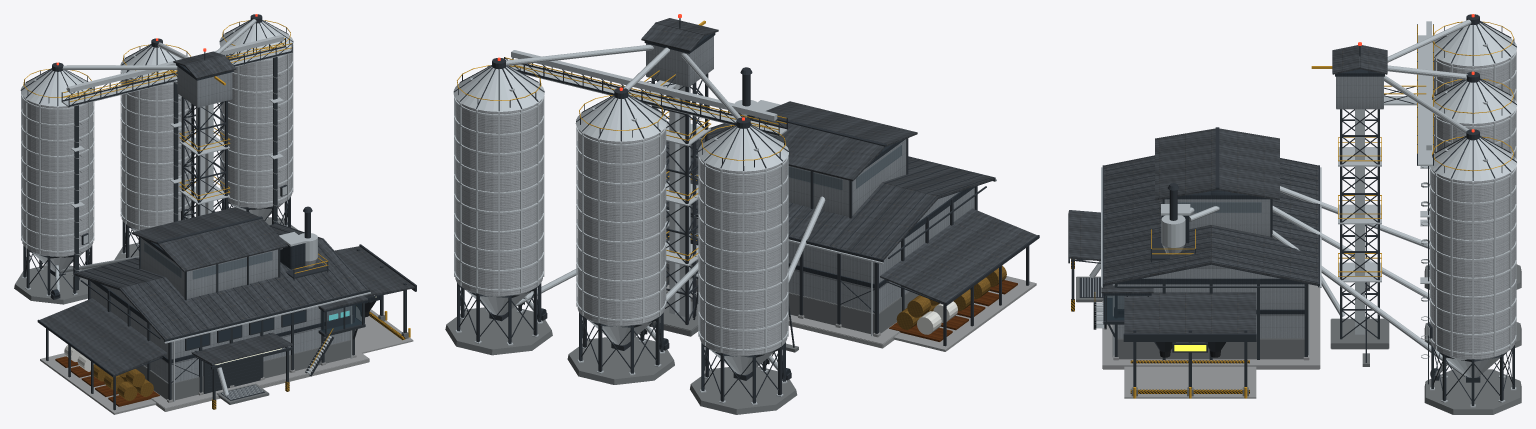
The model's file is tmr_complex.glb.
The picture shows the model from 3 angles, left to right: view 1: azimuth 30°, elevation 25°; view 2: azimuth 150°, elevation 25°; view 3: azimuth 270°, elevation 25°; orthographic projection. The views are drawn at different scales.
Parts seen in each view (by area): view 1: TMR_MillRoofSlate, TMR_SiloGalvBody, TMR_StructuralSteel, TMR_SiloGalvRib, TMR_MillCladding, TMR_PipeGalv, TMR_ConcPlinth, TMR_ConcPad, TMR_ControlGlass, TMR_SafetyYellow, TMR_MillSlateBand, TMR_AlfalfaHay (+1 smaller); view 2: TMR_SiloGalvBody, TMR_SiloGalvRib, TMR_MillRoofSlate, TMR_StructuralSteel, TMR_ConcPlinth, TMR_PipeGalv, TMR_MillCladding, TMR_ConcPad, TMR_SafetyYellow, TMR_MillSlateBand, TMR_AlfalfaHay, TMR_TimberPallet (+2 smaller); view 3: TMR_MillRoofSlate, TMR_StructuralSteel, TMR_SiloGalvBody, TMR_SiloGalvRib, TMR_PipeGalv, TMR_MillCladding, TMR_ConcPlinth, TMR_ConcPad, TMR_MillSlateBand, TMR_SafetyYellow, TMR_ControlGlass, TMR_HazardStripe.
Part boxes in pixels (x1,y1,x2,y2): TMR_MillRoofSlate: [40, 51, 414, 375]; TMR_SiloGalvBody: [22, 48, 292, 256]; TMR_StructuralSteel: [21, 14, 416, 410]; TMR_SiloGalvRib: [20, 20, 293, 271]; TMR_MillCladding: [90, 66, 350, 383]; TMR_PipeGalv: [22, 19, 370, 401]; TMR_ConcPlinth: [14, 217, 408, 404]; TMR_ConcPad: [40, 307, 413, 414]; TMR_ControlGlass: [144, 243, 361, 349]; TMR_SafetyYellow: [23, 20, 410, 367]; TMR_MillSlateBand: [51, 63, 381, 363]; TMR_AlfalfaHay: [90, 364, 153, 400]; TMR_SiloGalvBody: [455, 99, 787, 355]; TMR_SiloGalvRib: [453, 65, 788, 374]; TMR_MillRoofSlate: [641, 18, 1037, 303]; TMR_StructuralSteel: [454, 18, 1039, 403]; TMR_ConcPlinth: [445, 262, 918, 414]; TMR_PipeGalv: [455, 45, 996, 405]; TMR_MillCladding: [646, 36, 974, 312]; TMR_ConcPad: [666, 276, 1036, 351]; TMR_SafetyYellow: [457, 20, 786, 260]; TMR_MillSlateBand: [537, 33, 975, 377]; TMR_AlfalfaHay: [896, 265, 1006, 329]; TMR_TimberPallet: [889, 280, 1017, 341]; TMR_MillRoofSlate: [1068, 45, 1387, 333]; TMR_StructuralSteel: [1068, 14, 1516, 405]; TMR_SiloGalvBody: [1430, 54, 1515, 359]; TMR_SiloGalvRib: [1429, 23, 1517, 377]; TMR_PipeGalv: [1082, 19, 1516, 407]; TMR_MillCladding: [1117, 76, 1383, 338]; TMR_ConcPlinth: [1076, 264, 1521, 414]; TMR_ConcPad: [1102, 284, 1320, 398]; TMR_MillSlateBand: [1103, 69, 1440, 377]; TMR_SafetyYellow: [1094, 21, 1514, 398]; TMR_ControlGlass: [1105, 202, 1261, 320]; TMR_HazardStripe: [1071, 258, 1249, 393].
Bounding box in the file's own units: 42.75 × 30.98 × 43.25.
Materials: 20 (7 with a texture image).
